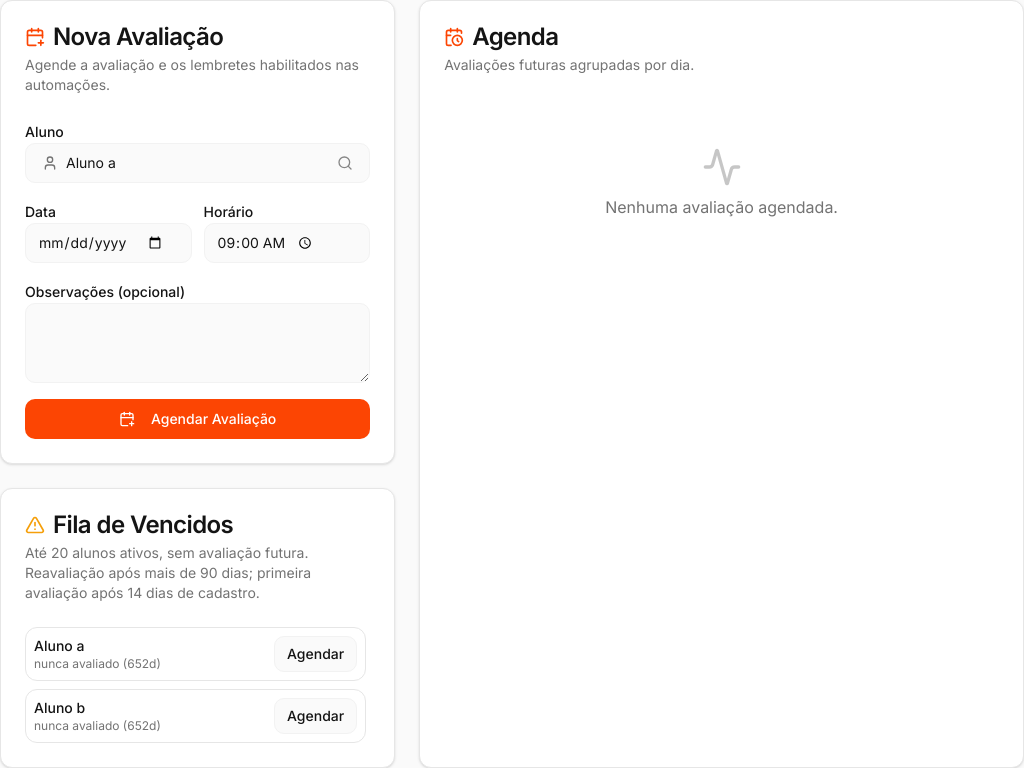
Test: pré-seleção na agenda › preserva a escolha manual quando a consulta de alunos é atualizada
Later steps or results of the test are not shown.
(page scrolled)
expect the dropdown labelled "Aluno" reads "Aluno a": met, box x1=25 y1=143 x2=370 y2=183
Click the button "Agendar" in the row of "Aluno b": (316, 716) x1=274 y1=698 x2=357 y2=734
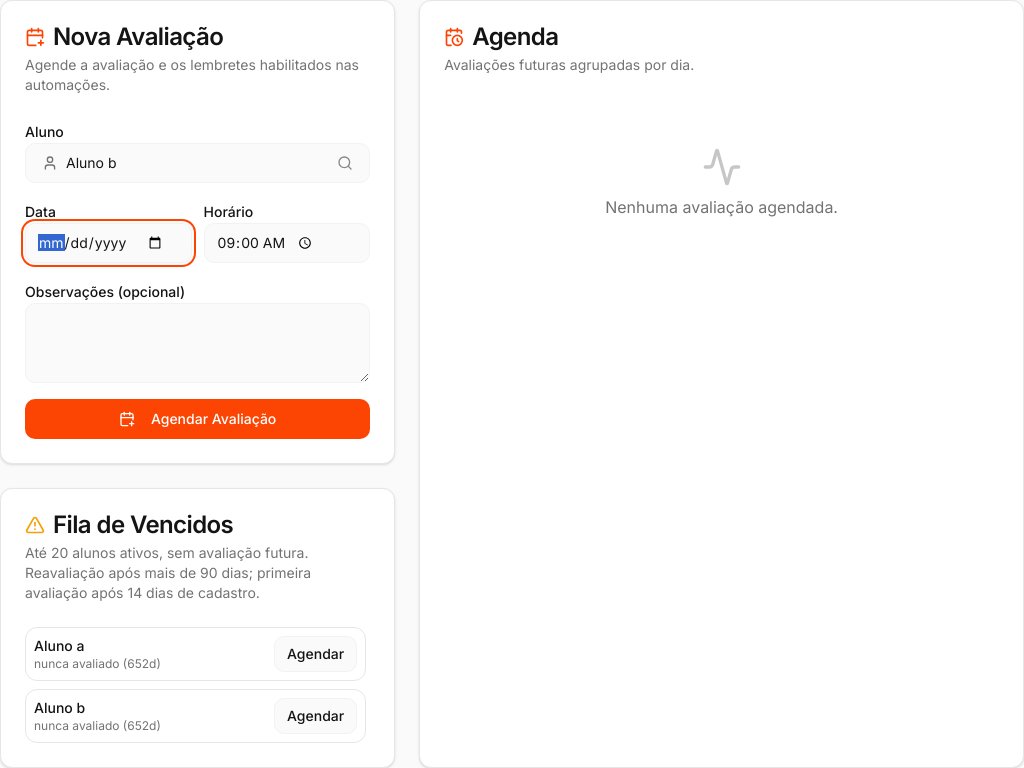
expect the dropdown labelled "Aluno" reads "Aluno b": met, box x1=25 y1=143 x2=370 y2=183
